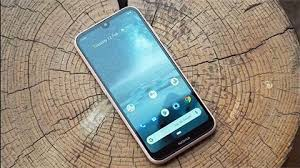nokia: (62, 7, 218, 163)
